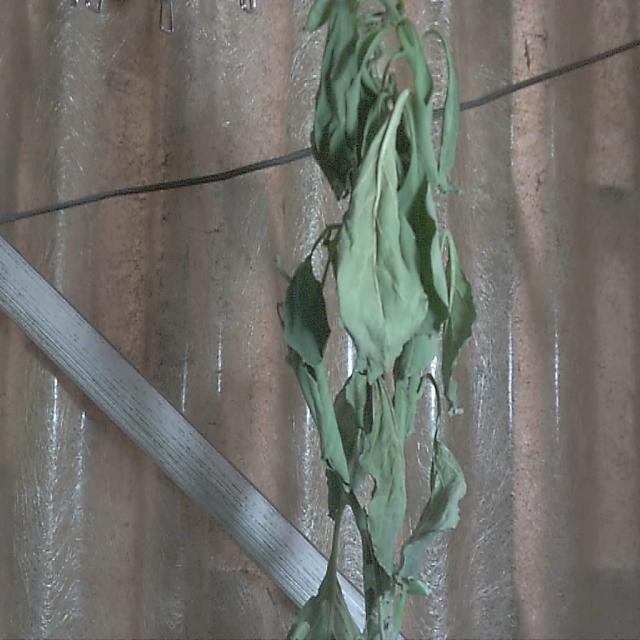Leaf: (335, 128, 430, 380), (364, 391, 406, 578), (282, 255, 332, 370)
